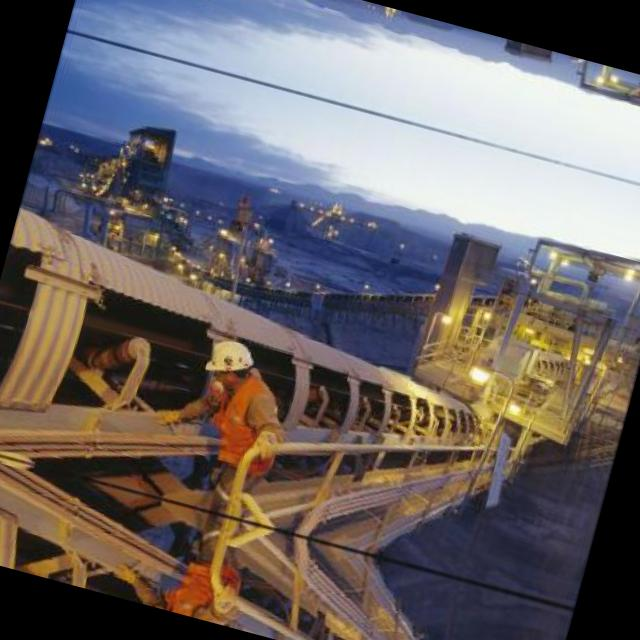helmet: (202, 330, 260, 392)
